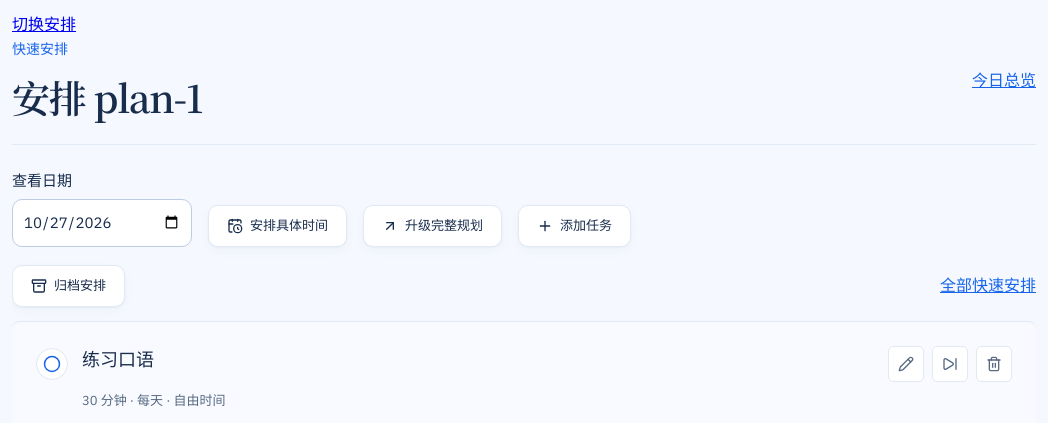
Scenario: light arrangements › ignores an old quick plan save after switching plans
The width and height of the screenshot is (1048, 423).
Click the button named "完成 练习口语" at [52, 364], box [36,348,68,380]
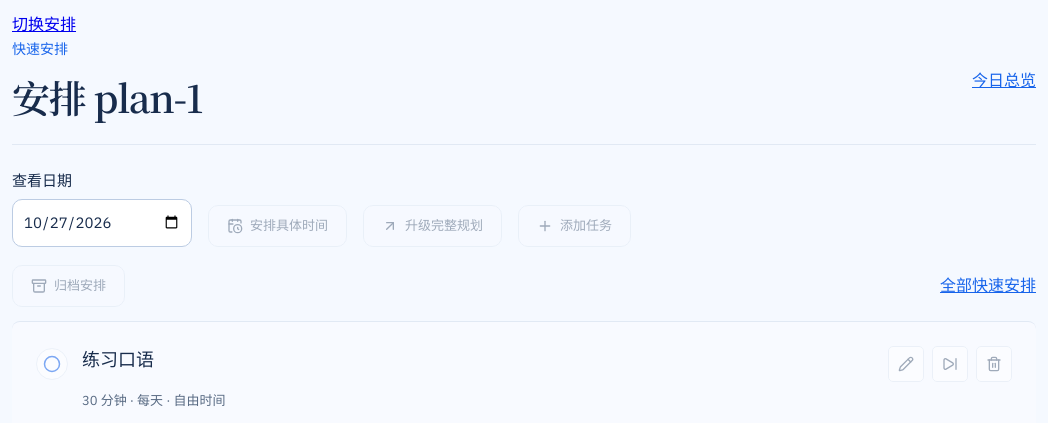
Click the link "切换安排" at [44, 24], box [12,14,76,34]
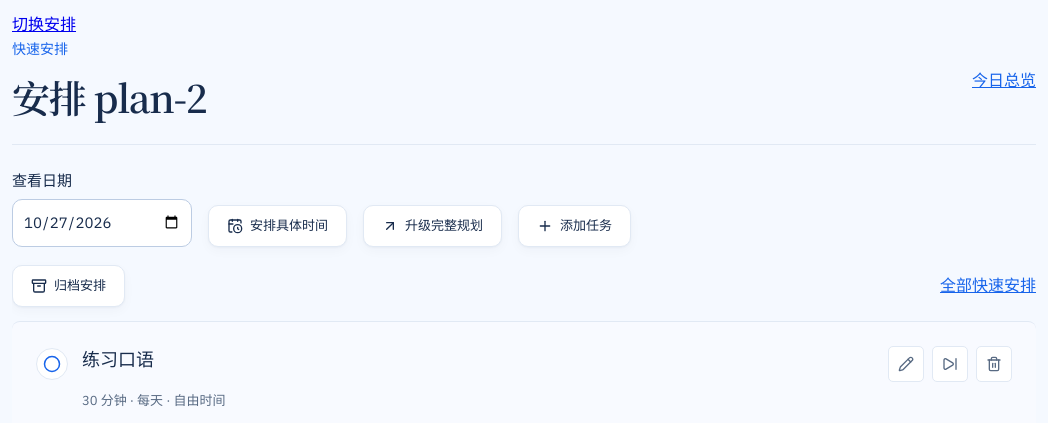
Result: the heading "安排 plan-2" is shown at [12,69,206,124]
